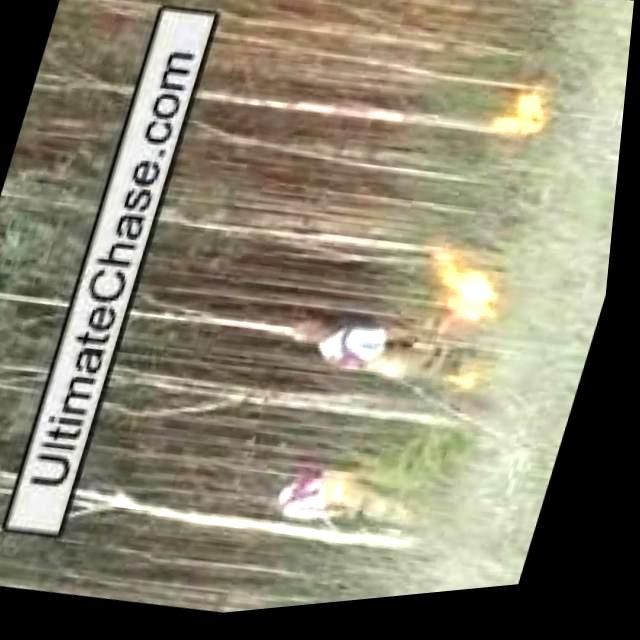fire: (434, 258, 511, 336), (505, 94, 563, 150), (462, 382, 488, 402)
